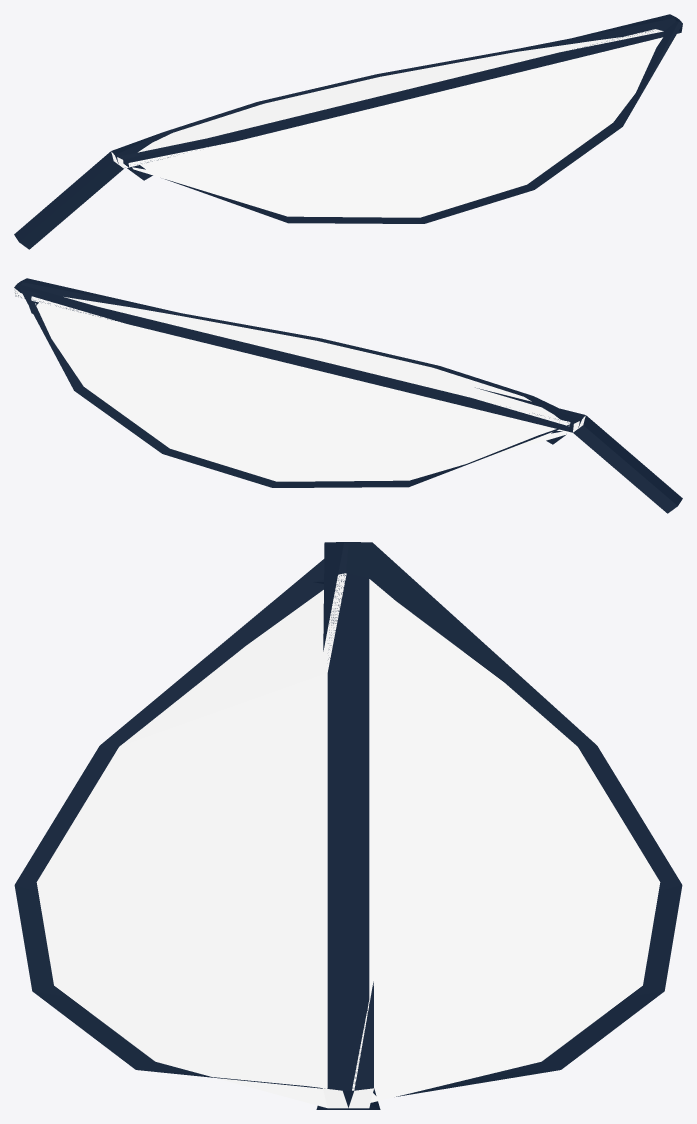
The model's file is leaf.glb.
The picture shows the model from 3 angles, top to bottom: view 1: azimuth 30°, elevation 25°; view 2: azimuth 150°, elevation 25°; view 3: azimuth 270°, elevation 25°; orthographic projection. The views are drawn at different scales.
Parts seen in each view (by area): view 1: Body, Outline; view 2: Body, Outline; view 3: Body, Outline.
Boxes of the visible parts, x1=… form: Body: x1=111, y1=29, x2=680, y2=217; Outline: x1=14, y1=14, x2=682, y2=249; Body: x1=14, y1=288, x2=585, y2=481; Outline: x1=14, y1=278, x2=682, y2=513; Body: x1=36, y1=573, x2=660, y2=1108; Outline: x1=14, y1=542, x2=682, y2=1109.
Bounding box in the file's own units: 10.11 × 1.05 × 4.43.
